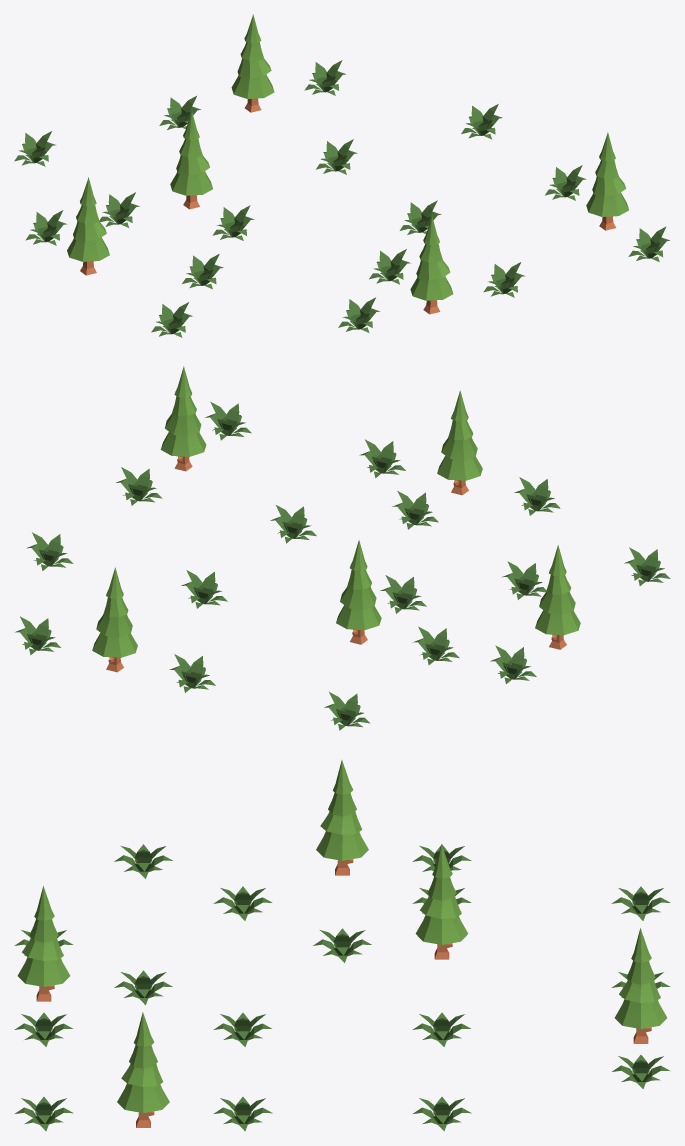
The model's file is bosquet.glb.
3 views of the same model, one above another, from view 1: azimuth 30°, elevation 25°; view 2: azimuth 150°, elevation 25°; view 3: azimuth 270°, elevation 25° (orthographic). The views are drawn at different scales.
Visible parts, largest first — view 1: mergedBlocks(Clone); view 2: mergedBlocks(Clone); view 3: mergedBlocks(Clone).
Boxes of the visible parts, bbox=[...] form: mergedBlocks(Clone): bbox=[14, 14, 669, 337]; mergedBlocks(Clone): bbox=[15, 366, 670, 730]; mergedBlocks(Clone): bbox=[14, 760, 670, 1131].
Bounding box in the file's own units: 6.6 × 1.25 × 6.6.
Materials: 1 (1 with a texture image).
